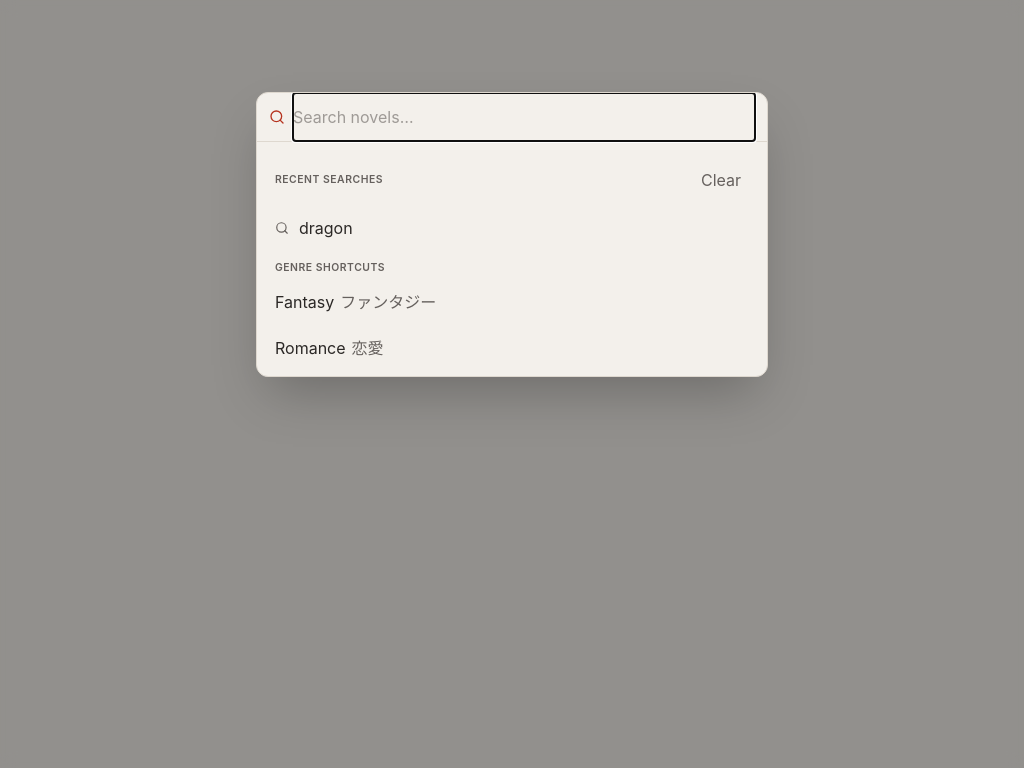
SearchOverlay empty query state › re-runs a search when a recent search is clicked
Click the button "dragon" at x=326, y=228, box [263,206,761,250]
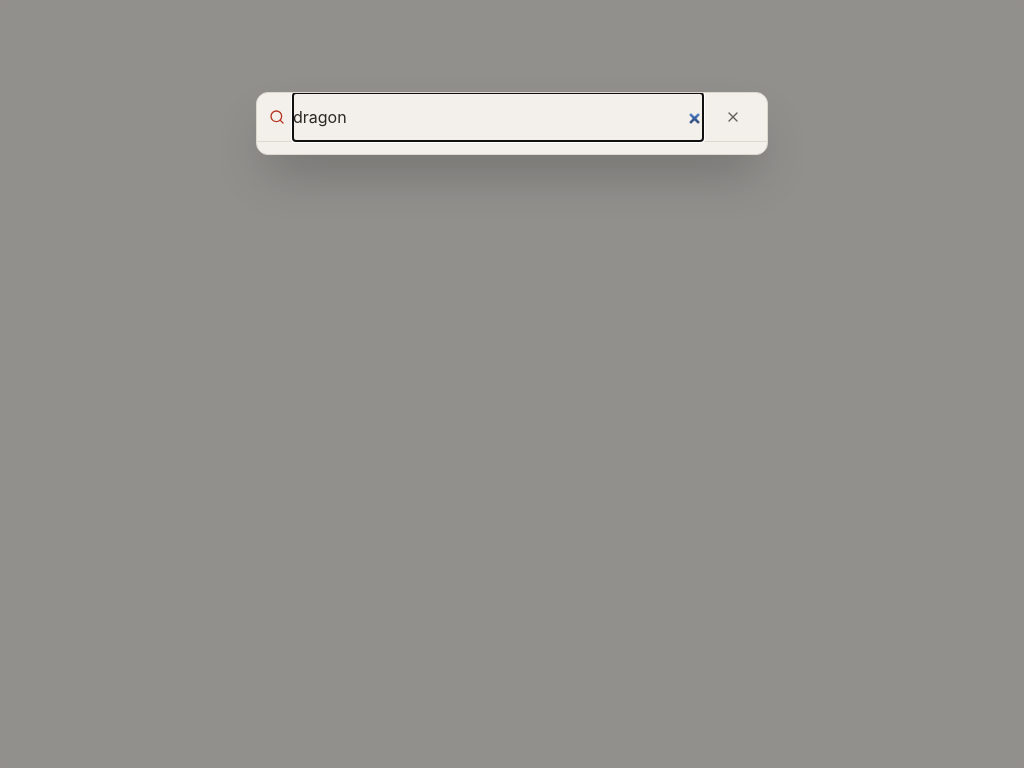
Expected: the search field named "Search" holds "dragon", [293,93,703,141]
